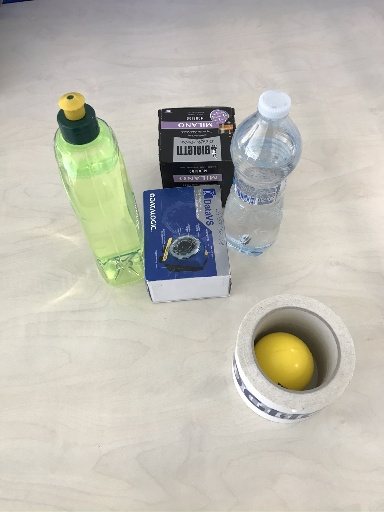Acqua: (230, 93, 303, 257)
Box: (142, 187, 233, 305)
Caffe: (155, 104, 236, 185)
Nastro: (232, 294, 358, 422)
Palla: (254, 332, 317, 392)
Sapone: (48, 93, 145, 287)
